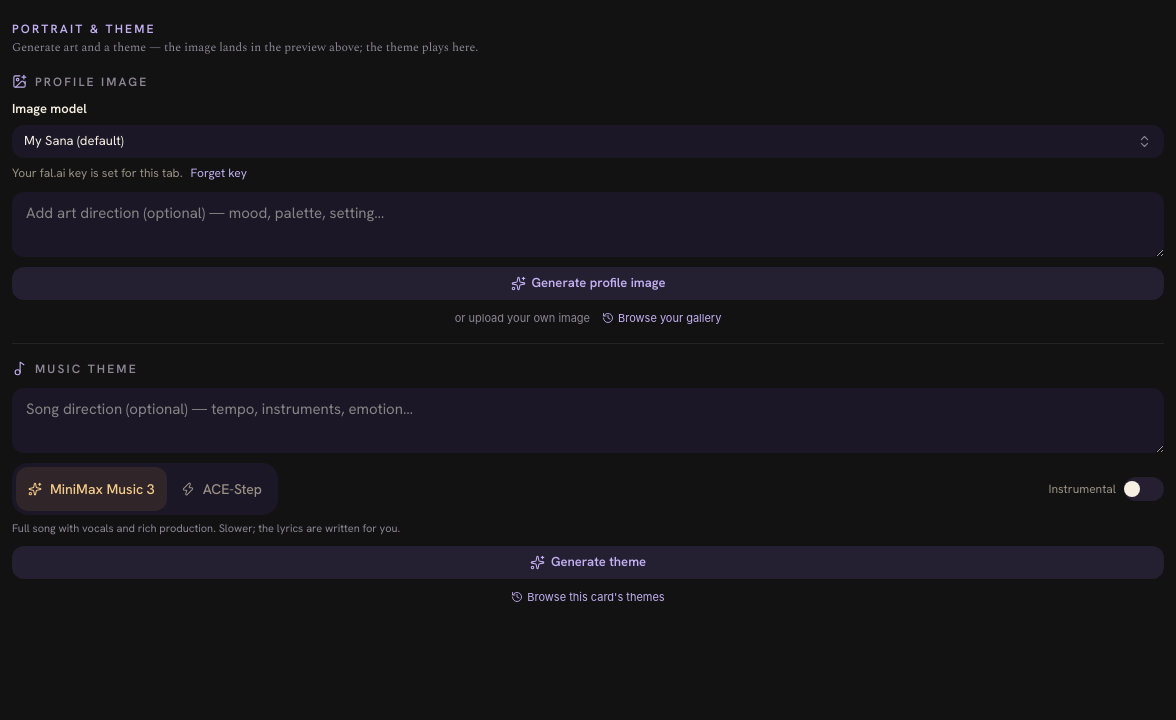
Scenario: MediaStudioSection image model › drops a rejected personal key so the next attempt asks again
Expected: the text "Your fal.ai key is set for this tab." is shown, [12,164,182,182]
Click the button "Generate profile image" at (588, 284), box [12,267,1164,300]
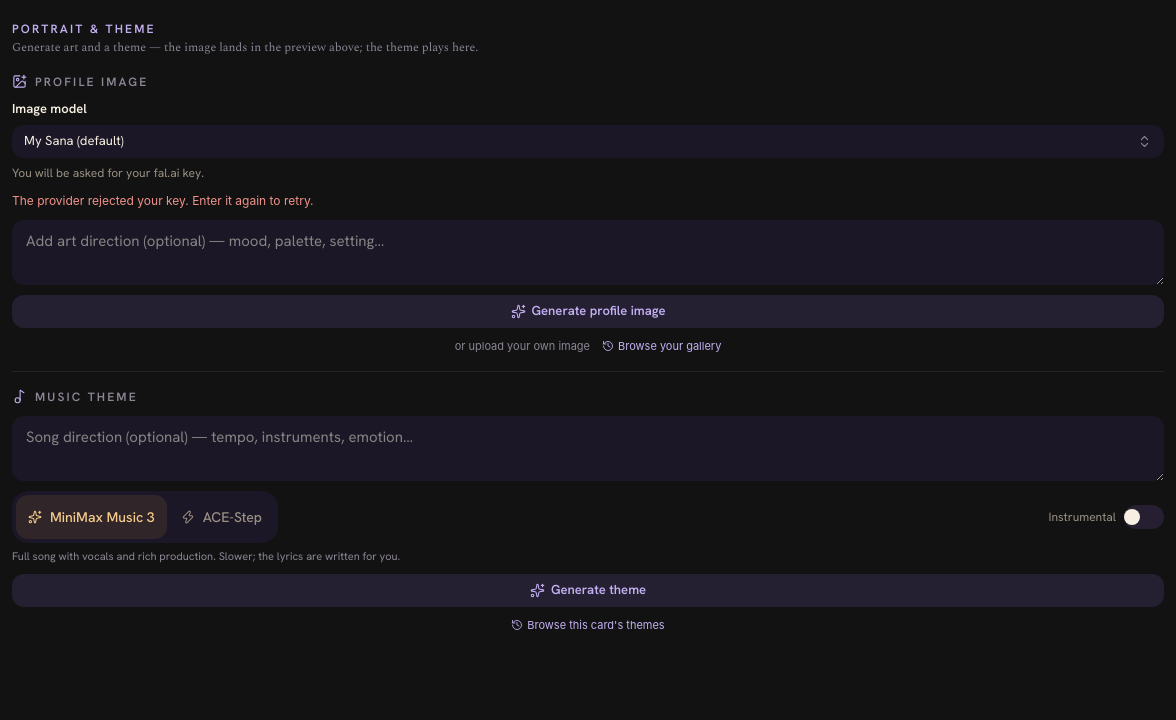
Expected: the message shows "The provider rejected your key.", [12,193,314,208]
Expected: the text "You will be asked for your fal.ai key." is shown, [12,164,204,182]
